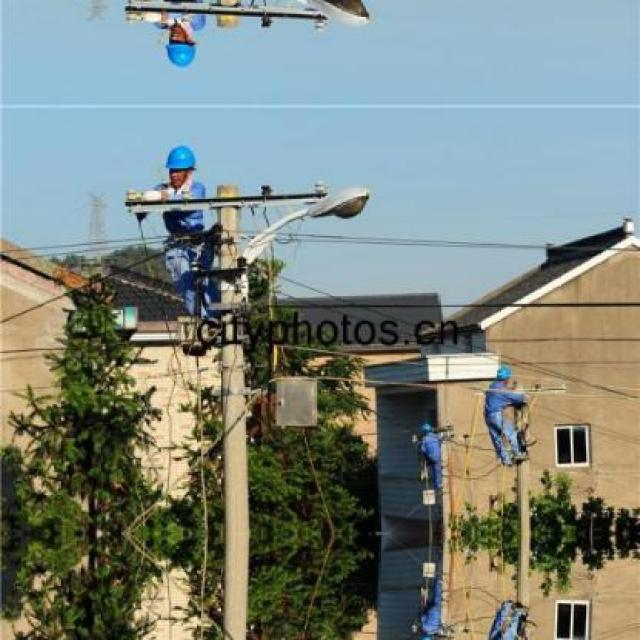helmet: (164, 140, 199, 185), (164, 27, 199, 72), (492, 362, 512, 388)
